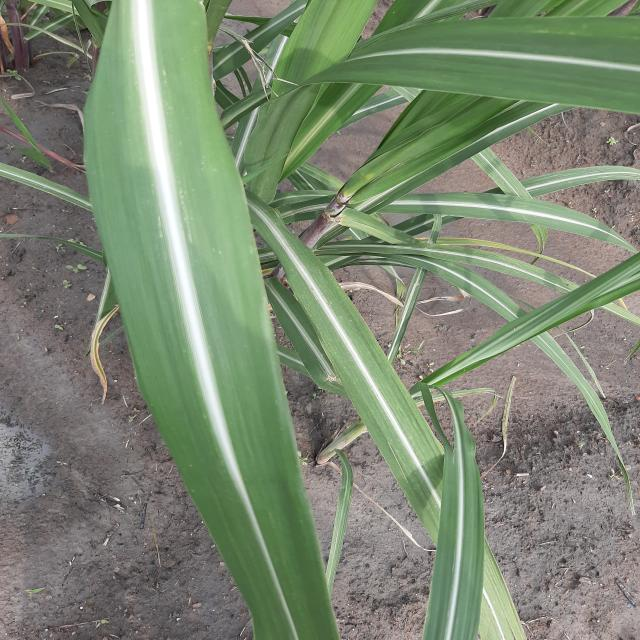Sugarcane: (2, 1, 638, 639)
